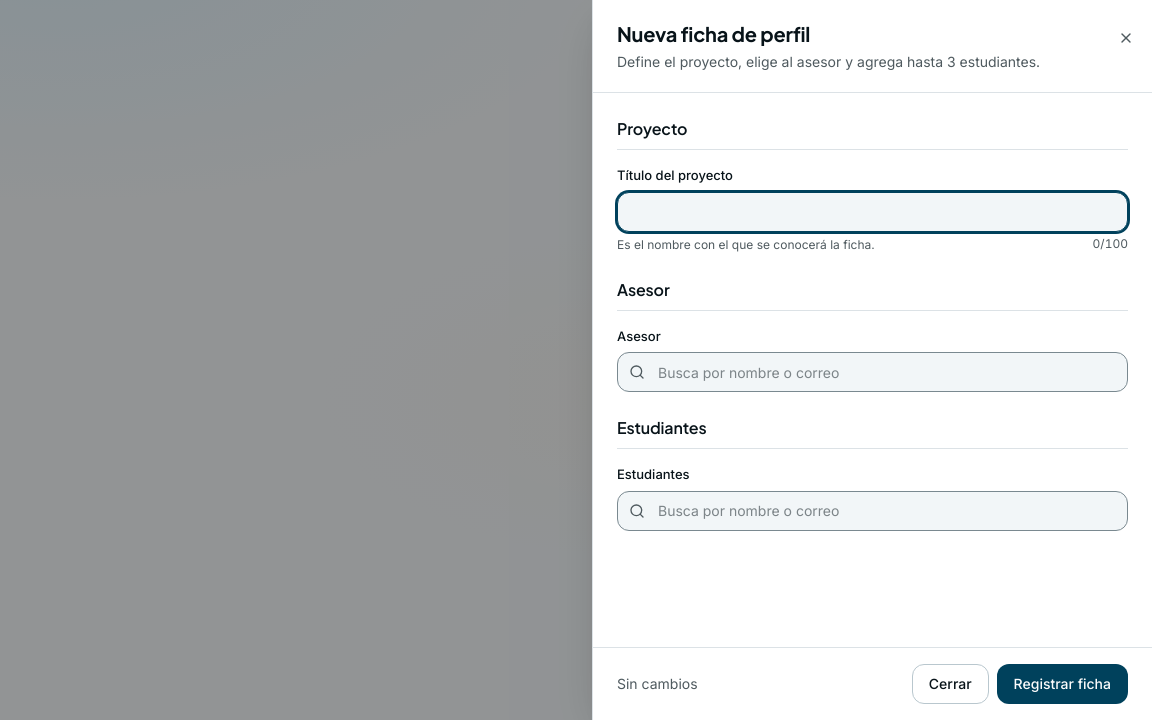
Test: RegistrarFichaPerfilPanel › Esc con cambios pide confirmación en lugar de cerrar
Type "Borrador" into the field labelled "Título del proyecto" at (872,212), box [617,192,1128,232]
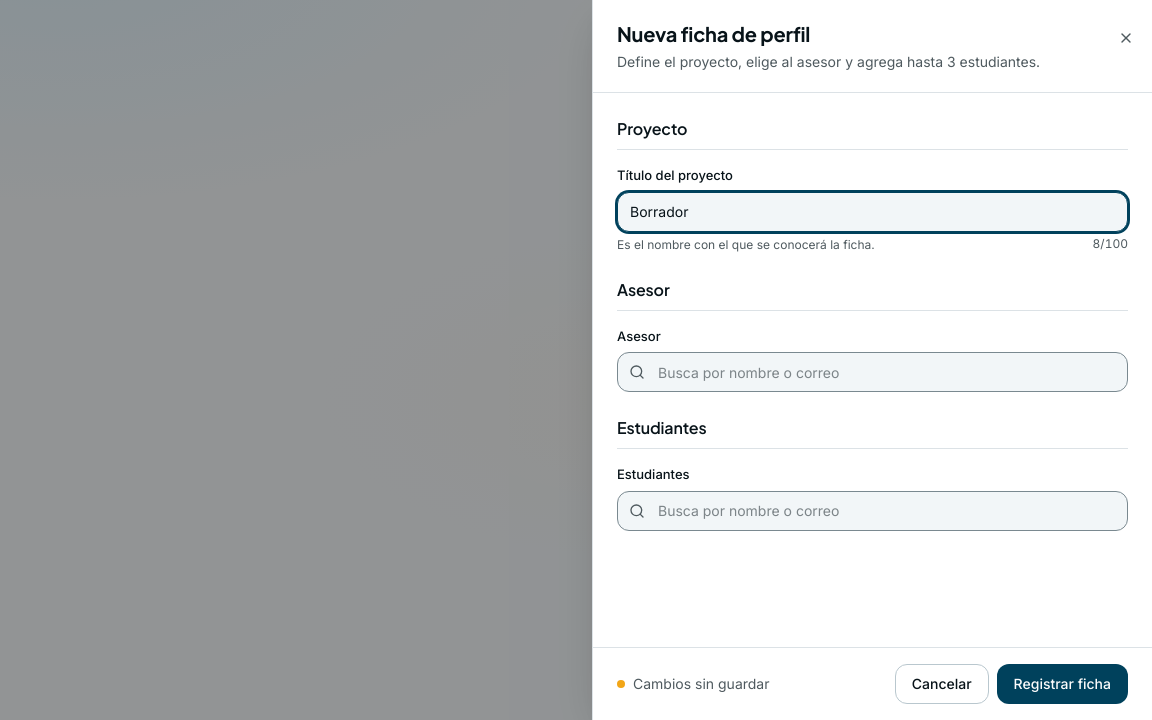
Press Escape
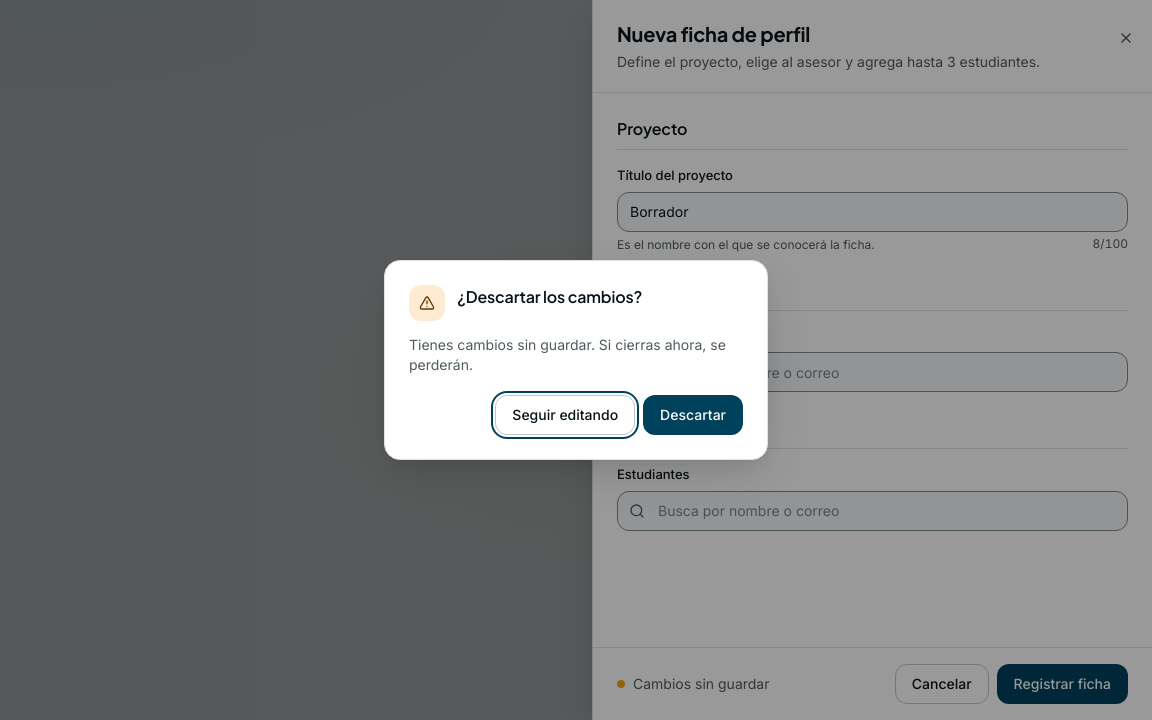
Expected: the dialog "¿Descartar los cambios?" is shown, [384,260,768,460]
